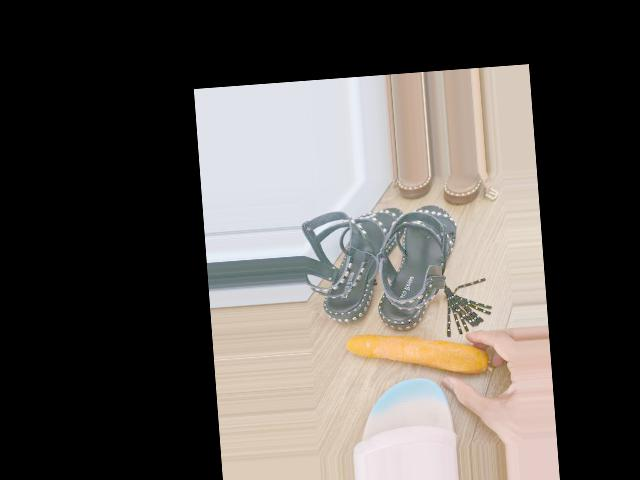carrot: (344, 324, 489, 383)
